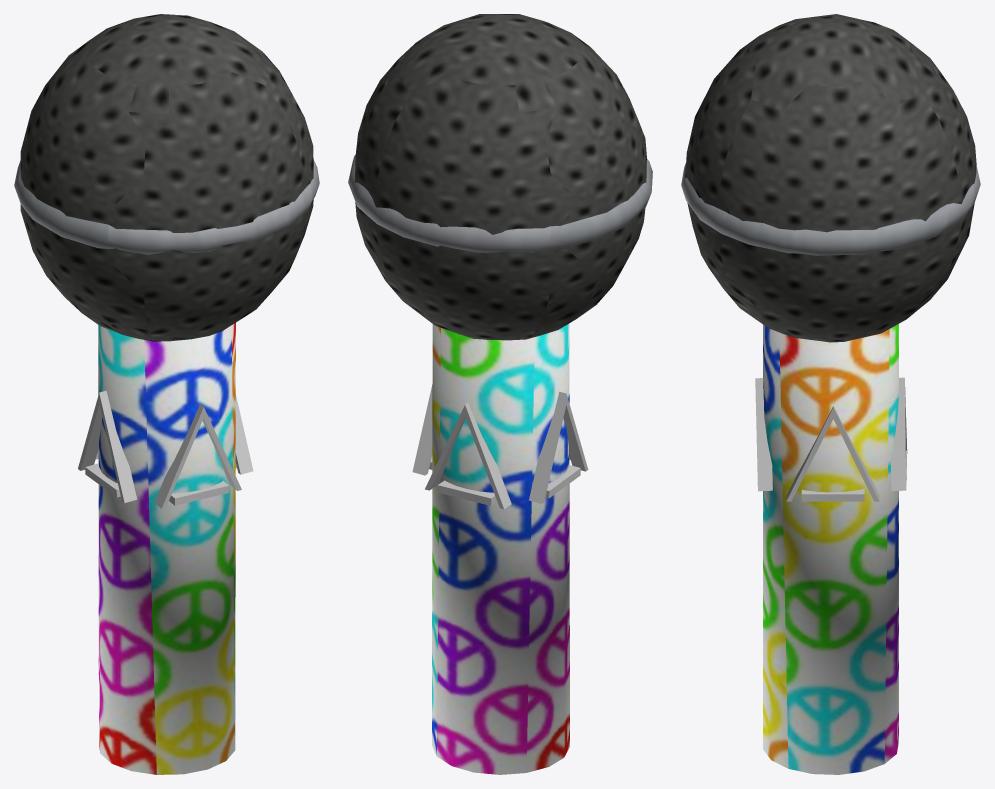
The model's file is mic.dae.
3 renders of one model, left to right at view 1: azimuth 30°, elevation 25°; view 2: azimuth 150°, elevation 25°; view 3: azimuth 270°, elevation 25°, orthographic.
Visible parts, largest first — view 1: Torus; view 2: Torus; view 3: Torus.
Part boxes in pixels (x1,y1,x2,y2): Torus: [14, 14, 319, 774]; Torus: [348, 14, 652, 774]; Torus: [681, 14, 980, 774].
Size of the model in its own units: 0.2043 by 0.1994 by 0.5281.
4 materials, 4 textured.
